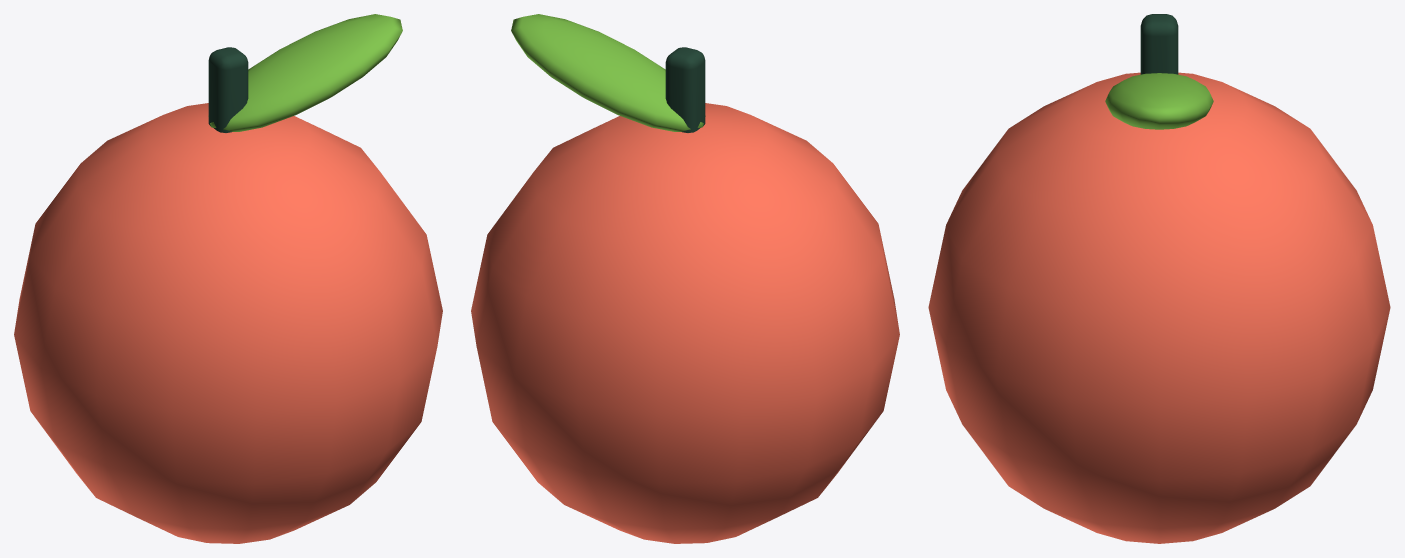
The model's file is food.glb.
3 views of the same model, side by side, from view 1: azimuth 30°, elevation 25°; view 2: azimuth 150°, elevation 25°; view 3: azimuth 270°, elevation 25° (orthographic). The views are drawn at different scales.
Visible parts, largest first — view 1: Fruit, Leaf, Stem; view 2: Fruit, Leaf, Stem; view 3: Fruit, Leaf, Stem.
Part boxes in pixels (x1,y1,x2,y2): Fruit: (14, 103, 442, 543); Leaf: (208, 14, 402, 131); Stem: (208, 47, 248, 132); Fruit: (471, 103, 899, 543); Leaf: (511, 14, 705, 131); Stem: (665, 47, 705, 132); Fruit: (928, 72, 1390, 543); Leaf: (1105, 73, 1213, 129); Stem: (1140, 14, 1178, 74).
Size of the model in its own units: 0.68 by 0.82 by 0.68.
